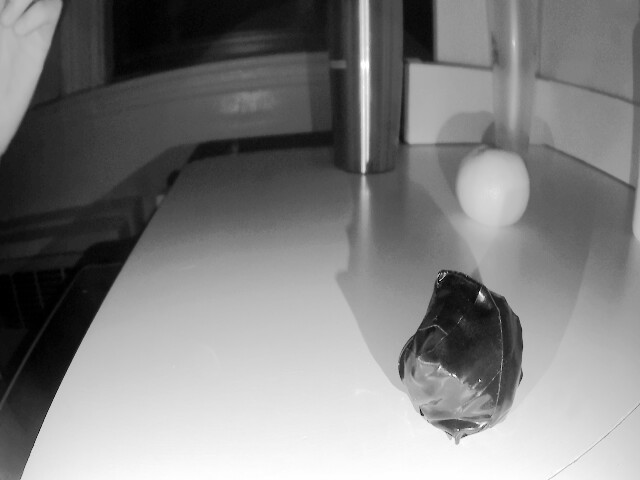silver: (406, 267, 524, 446)
